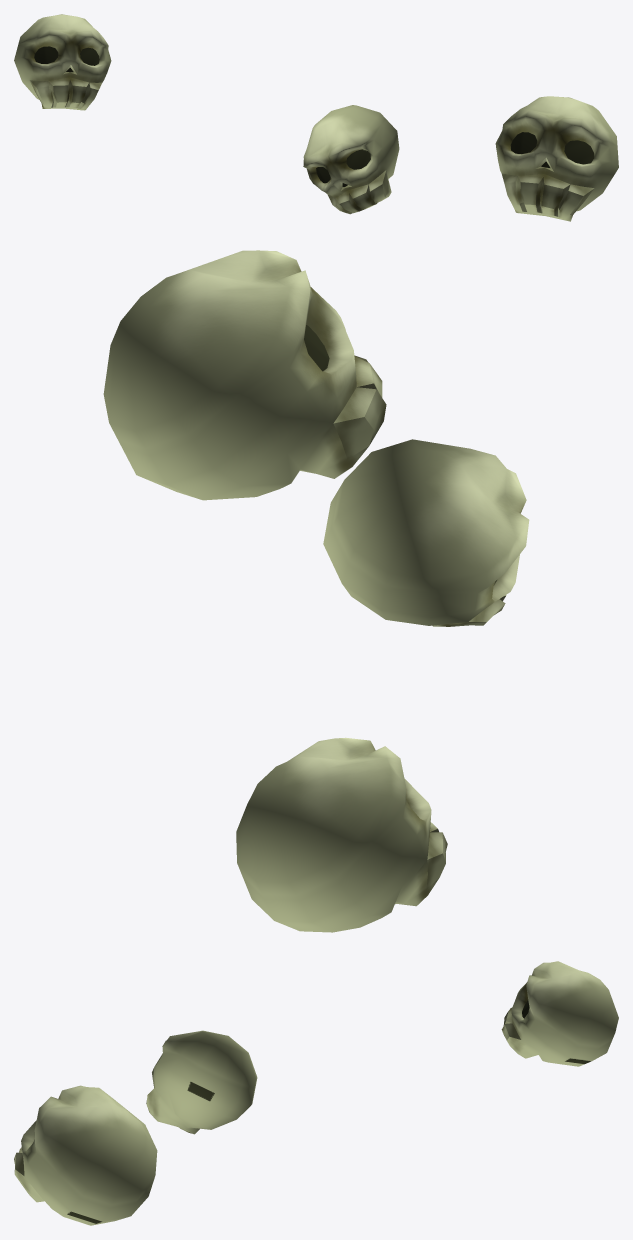
Rendered from GMTK2024_DragonKeep_SinglePiece_Skull.fbx.
The picture shows the model from 3 angles, top to bottom: view 1: azimuth 30°, elevation 25°; view 2: azimuth 150°, elevation 25°; view 3: azimuth 270°, elevation 25°; orthographic projection. The views are drawn at different scales.
Parts seen in each view (by area): view 1: teeawdaw087; view 2: teeawdaw087; view 3: teeawdaw087.
Boxes of the visible parts, box(x1,y1,x2,y2) form: teeawdaw087: box(14, 14, 618, 221); teeawdaw087: box(103, 250, 529, 932); teeawdaw087: box(14, 961, 618, 1225).
Size of the model in its own units: 14.86 by 4.13 by 19.59.
